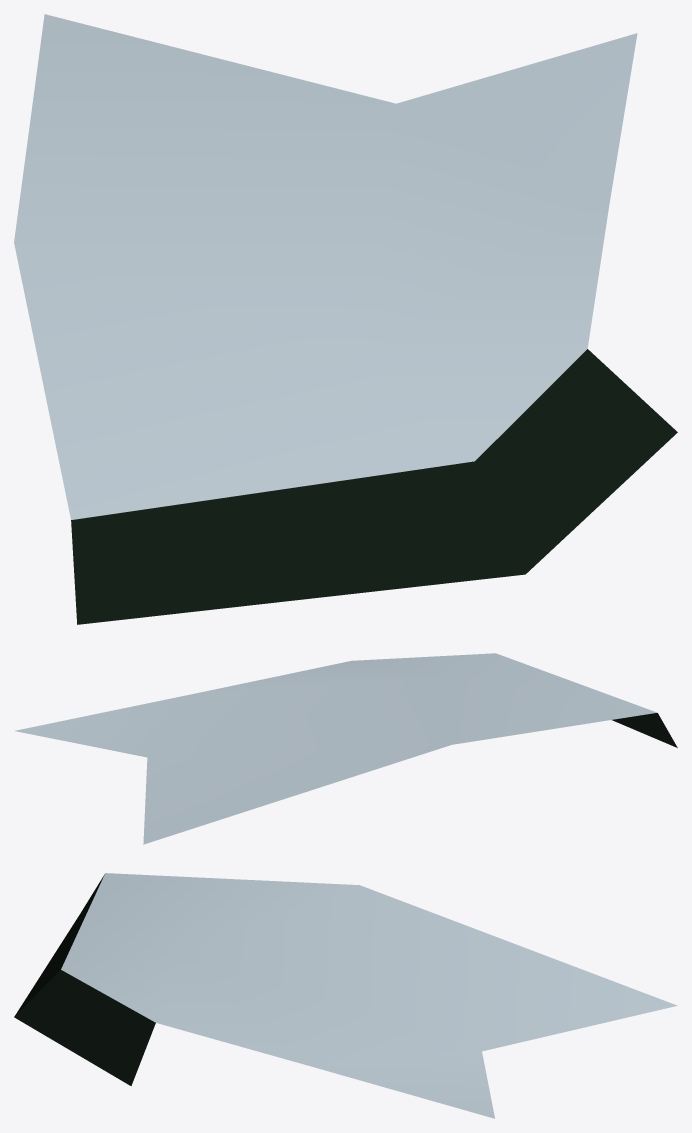
File: suelo_nieve_p5.fbx
3 views of the same model, one above another, from view 1: azimuth 30°, elevation 25°; view 2: azimuth 150°, elevation 25°; view 3: azimuth 270°, elevation 25° (orthographic). The views are drawn at different scales.
Visible parts, largest first — view 1: Cylinder004; view 2: Cylinder004; view 3: Cylinder004.
Boxes of the visible parts, left/top/right/bottom form: Cylinder004: left=14, top=14, right=677, bottom=624; Cylinder004: left=15, top=653, right=677, bottom=844; Cylinder004: left=14, top=873, right=677, bottom=1118.
Size of the model in its own units: 59.44 by 8.9 by 66.61.
